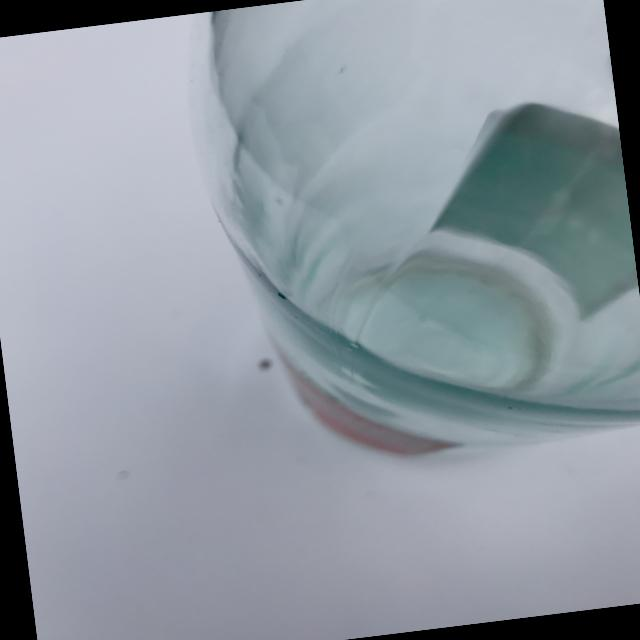Glass: (173, 0, 640, 500)
